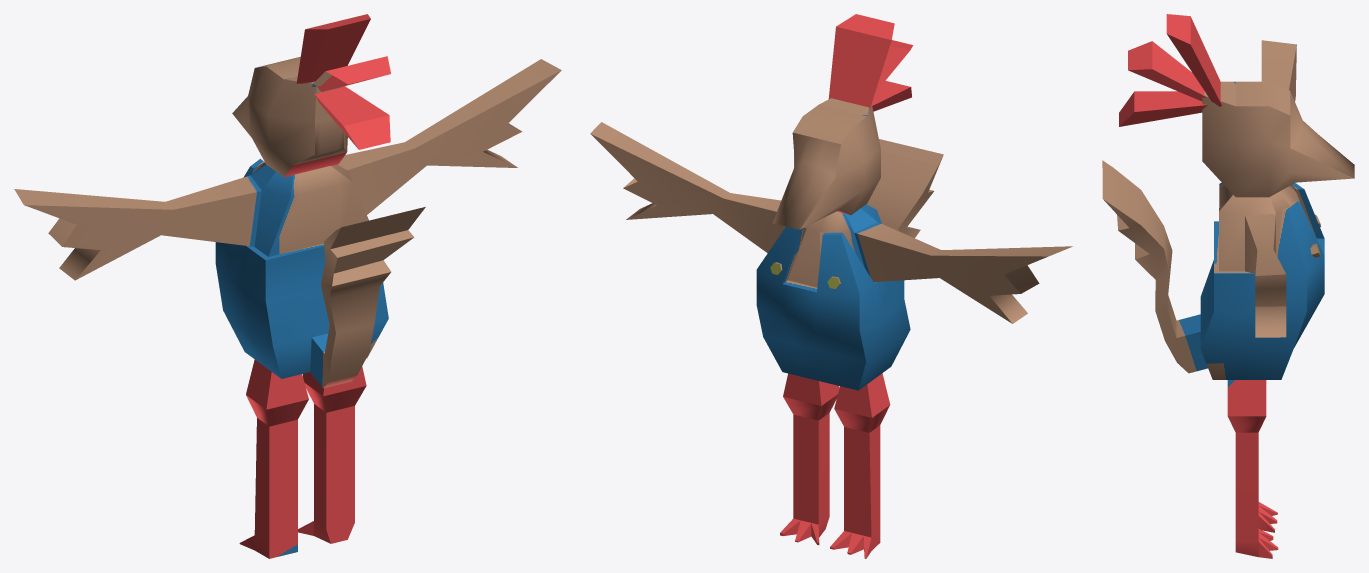
Rendered from rooster_UVs.fbx.
The picture shows the model from 3 angles, left to right: view 1: azimuth 30°, elevation 25°; view 2: azimuth 150°, elevation 25°; view 3: azimuth 270°, elevation 25°; orthographic projection. The views are drawn at different scales.
Visible parts, largest first — view 1: pCube8; view 2: pCube8; view 3: pCube8.
Part boxes in pixels (x1=…): pCube8: x1=14, y1=14, x2=561, y2=558; pCube8: x1=590, y1=14, x2=1072, y2=558; pCube8: x1=1102, y1=14, x2=1354, y2=558.
Bounding box in the file's own units: 14.68 × 14.49 × 6.46.
